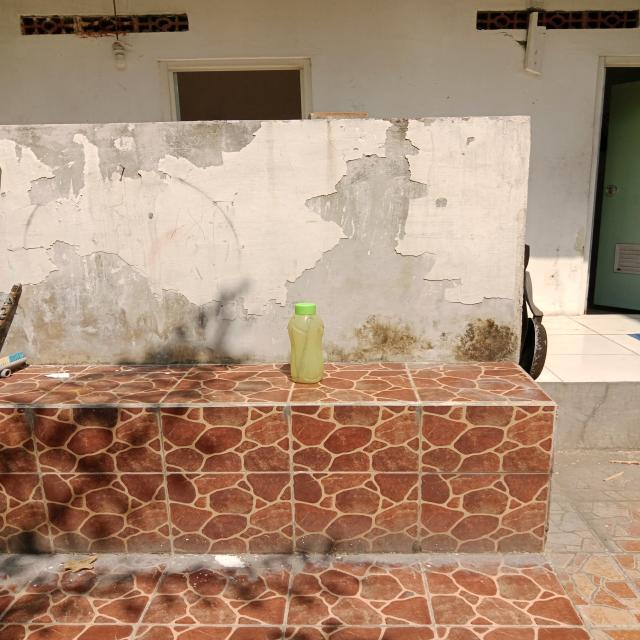botol_minum: (282, 298, 332, 389)
